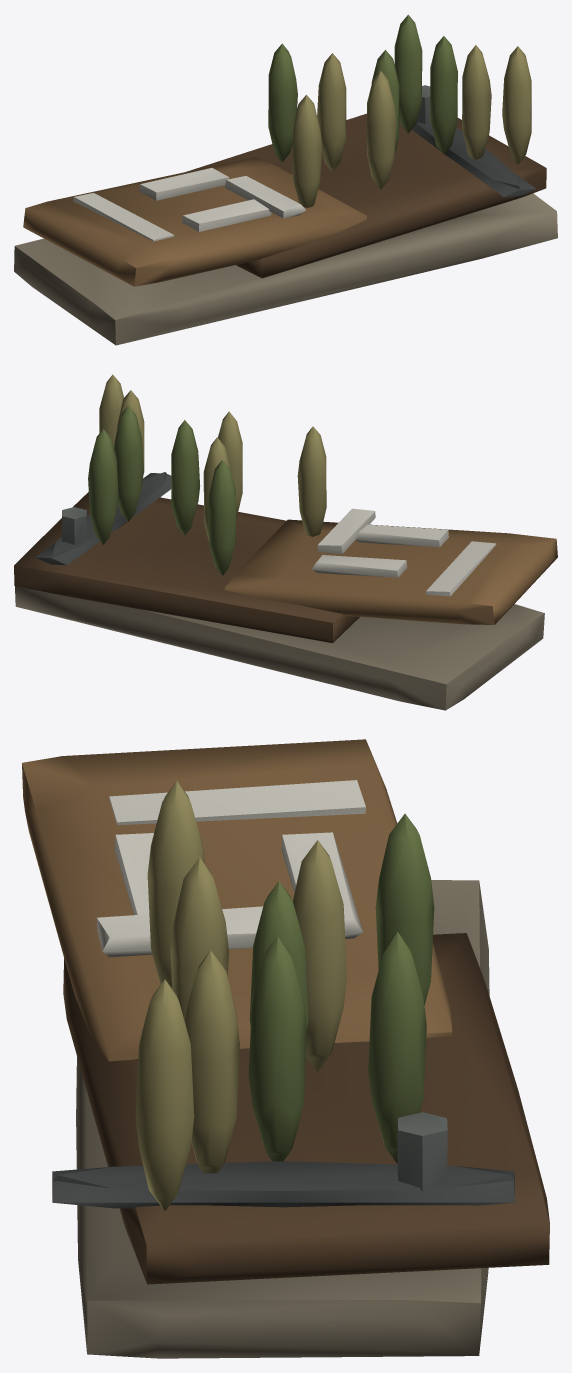
The model's file is bent_numbers_b_lod1.glb.
3 renders of one model, top to bottom at view 1: azimuth 30°, elevation 25°; view 2: azimuth 150°, elevation 25°; view 3: azimuth 270°, elevation 25°, orthographic. The views are drawn at different scales.
Visible parts, largest first — view 1: Surface.001; view 2: Surface.001; view 3: Surface.001.
Part boxes in pixels (<box>): Surface.001: <box>14,14,557,345</box>; Surface.001: <box>14,374,557,710</box>; Surface.001: <box>22,739,549,1358</box>.
Bounding box in the file's own units: 2.28 × 0.8767 × 1.14.
